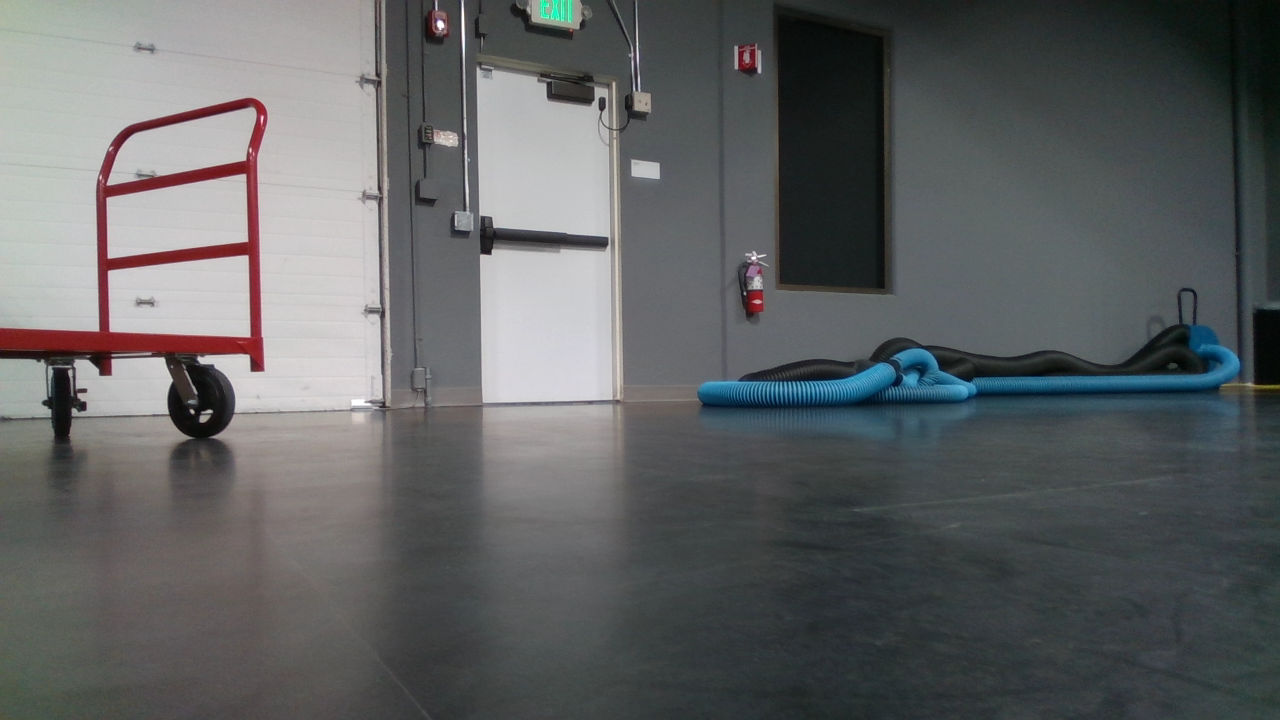Dolly: (1, 94, 273, 445)
Wheel: (159, 361, 248, 443), (45, 356, 84, 443)
